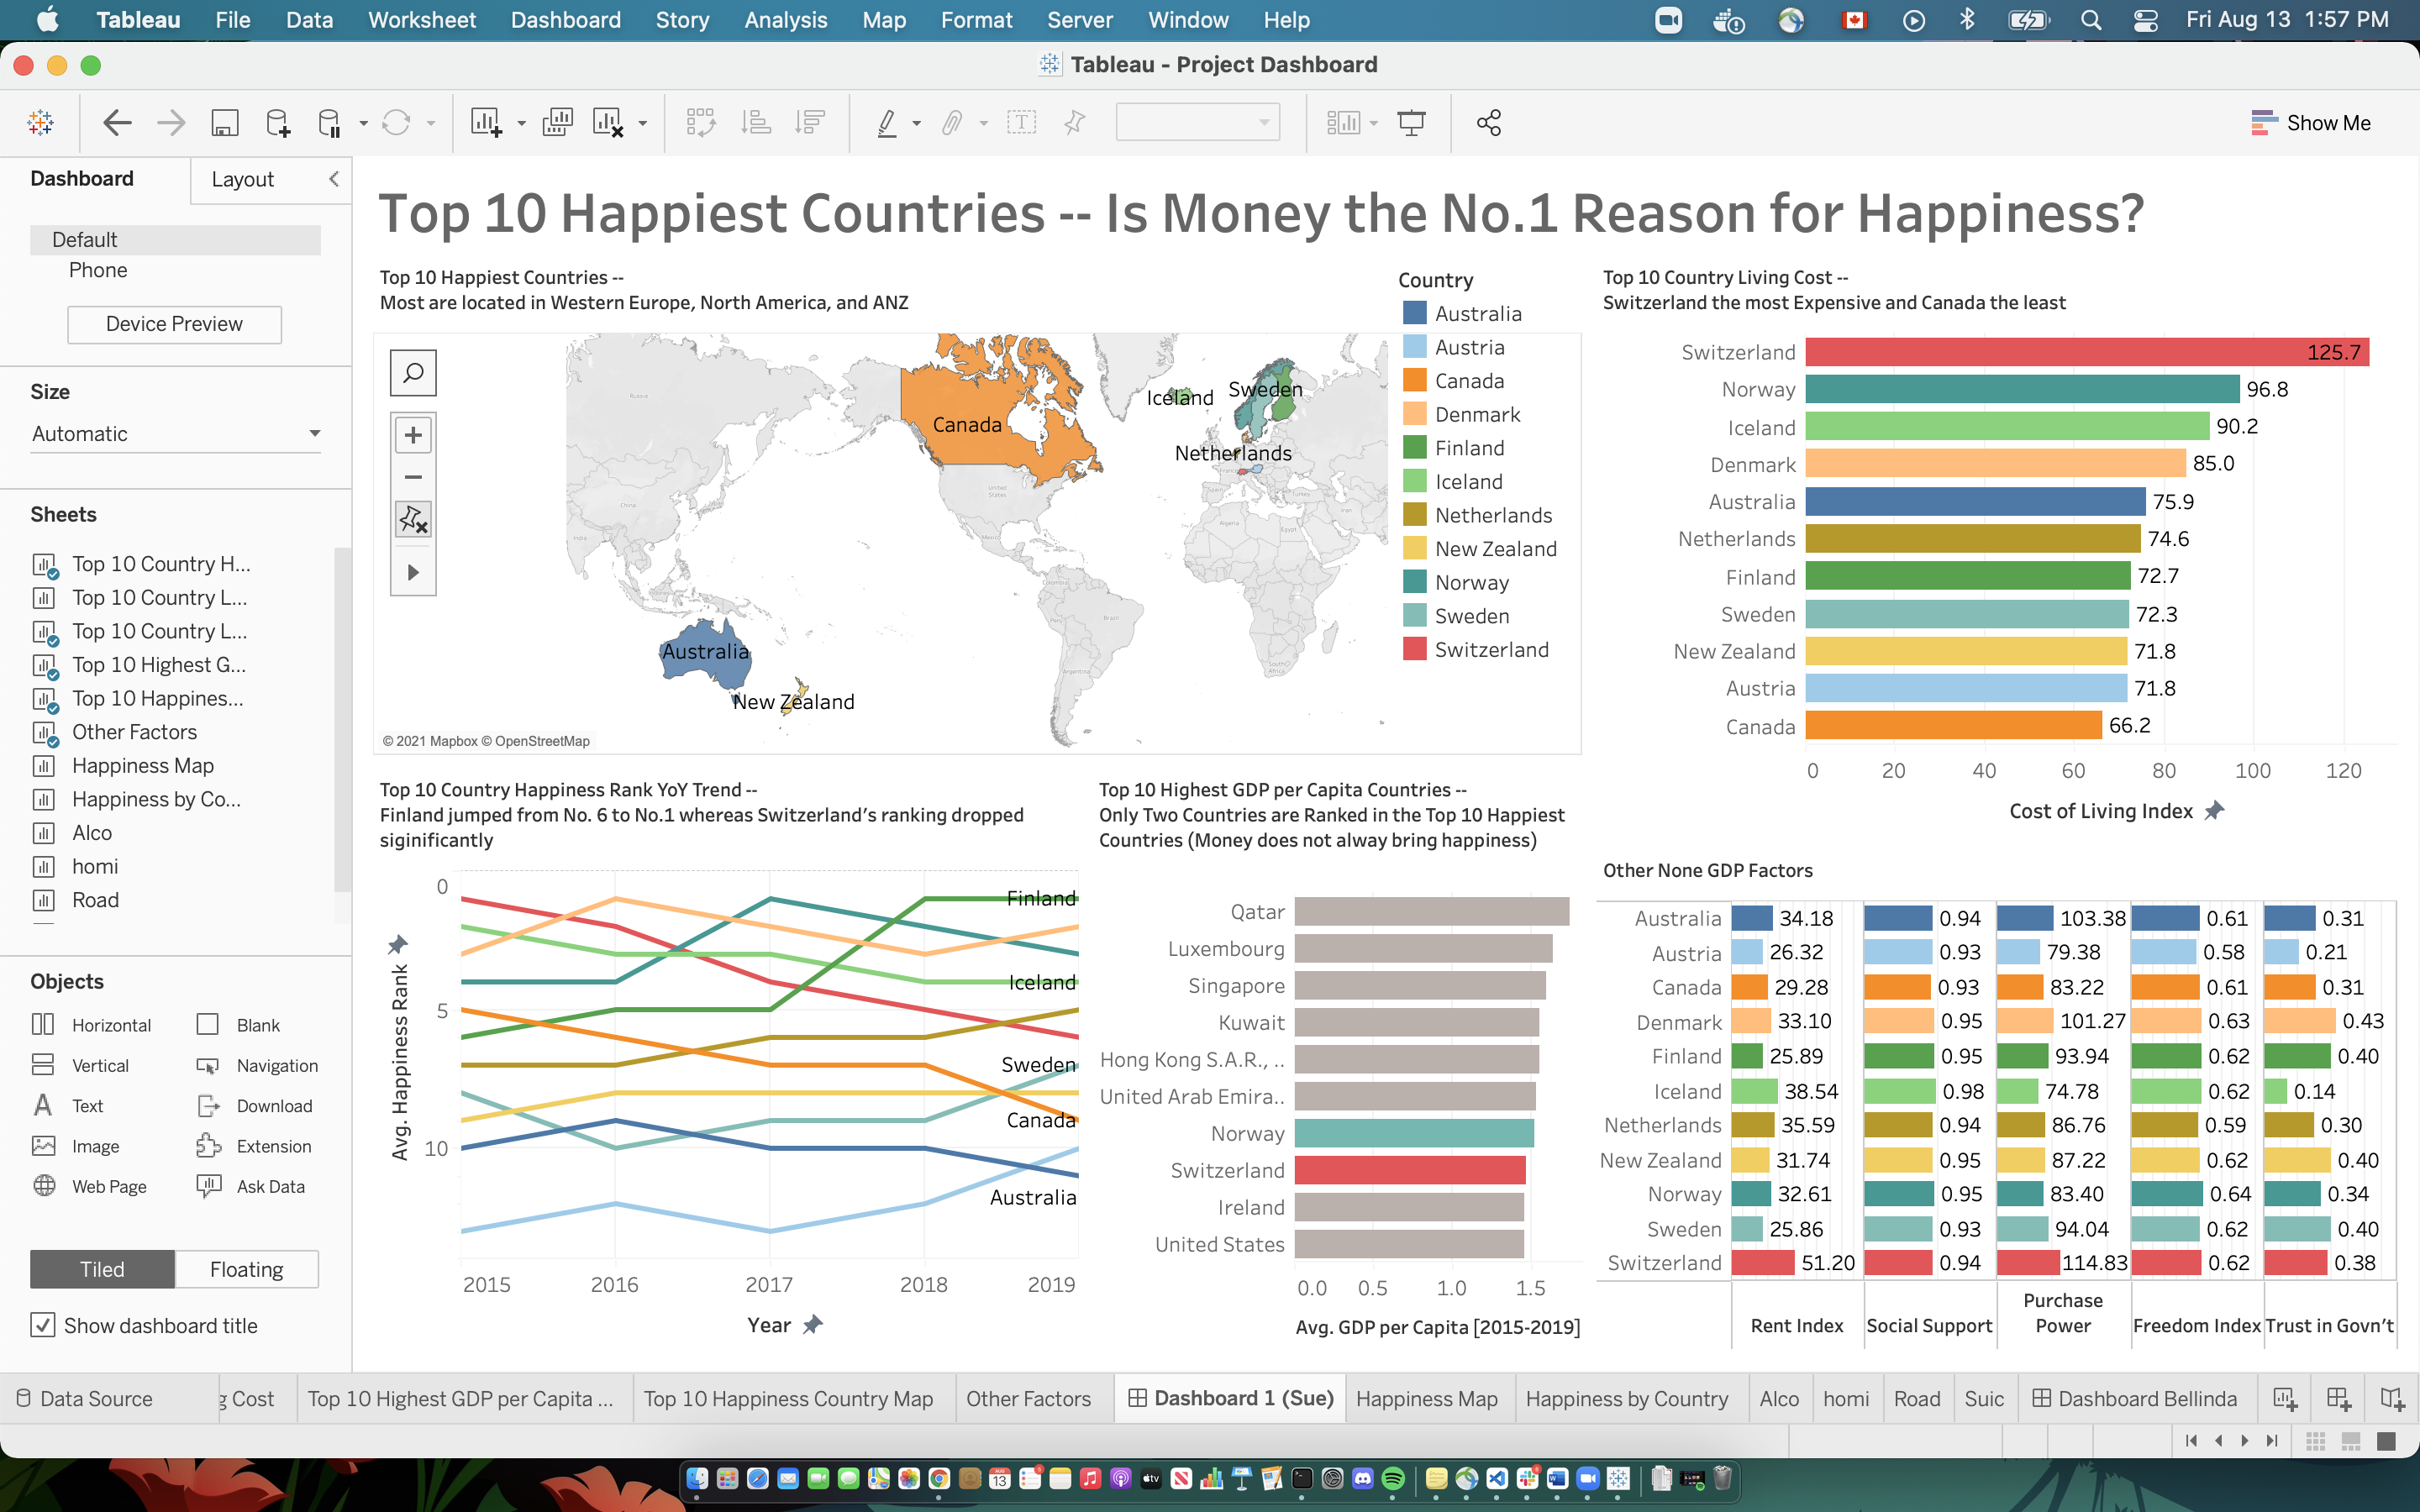

What the dashboard file says about the page in this screenshot:
{"tool":"tableau","page":{"name":"Dashboard 1 (Sue)","canvas":[1000,1000],"units":"permille","ordinal":0},"visuals":[{"type":"title","box":[6.5,11.1,987,66.4]},{"type":"worksheet","title":"Top 10 Happiness Country Map","mark":"Multipolygon","box":[6.5,77.5,594,421.8]},{"type":"worksheet","title":"Top 10 Country Living Cost","mark":"Automatic","rows":["Country"],"cols":["Cost of Living Index"],"box":[600.5,77.5,393,560.1]},{"type":"legend","title":"Top 10 Country Living Cost","param":"[federated.1qo0dog0du2x8i10i4pfv0vylerr].[none:Country:nk]","box":[509.4,99.6,72.4,329.2]},{"type":"worksheet","title":"Top 10 Country Happiness Rank YoY Trend","mark":"Automatic","rows":["Happiness Rank"],"cols":["Year"],"box":[6.5,499.3,348.2,489.6]},{"type":"worksheet","title":"Top 10 Highest GDP per Capita Country","mark":"Automatic","rows":["Country"],"cols":["Economy (GDP per Capita)"],"box":[354.8,499.3,245.7,489.6]},{"type":"worksheet","title":"Other Factors ","mark":"Bar","rows":["Country"],"cols":["Rent Index","Social support","Local Purchasing Power Index","Freedom_x","Trust (Government Corruption)_x"],"box":[600.5,637.6,393,351.3]}]}

Visuals, with their boxes on the dashboard's canvas, which has no fixed pixel size, in thousandths of its width and height (x1, y1, x2, y2). These are canvas units, not pixel positions in the 2420x1512 screenshot, which may show the page scaled, cropped or inside an application window:
title: bbox(6, 11, 994, 78)
"Top 10 Happiness Country Map" worksheet (Multipolygon marks): bbox(6, 78, 600, 499)
"Top 10 Country Living Cost" worksheet: bbox(600, 78, 994, 638)
"Top 10 Country Living Cost" legend: bbox(509, 100, 582, 429)
"Top 10 Country Happiness Rank YoY Trend" worksheet: bbox(6, 499, 355, 989)
"Top 10 Highest GDP per Capita Country" worksheet: bbox(355, 499, 600, 989)
"Other Factors " worksheet (Bar marks): bbox(600, 638, 994, 989)
